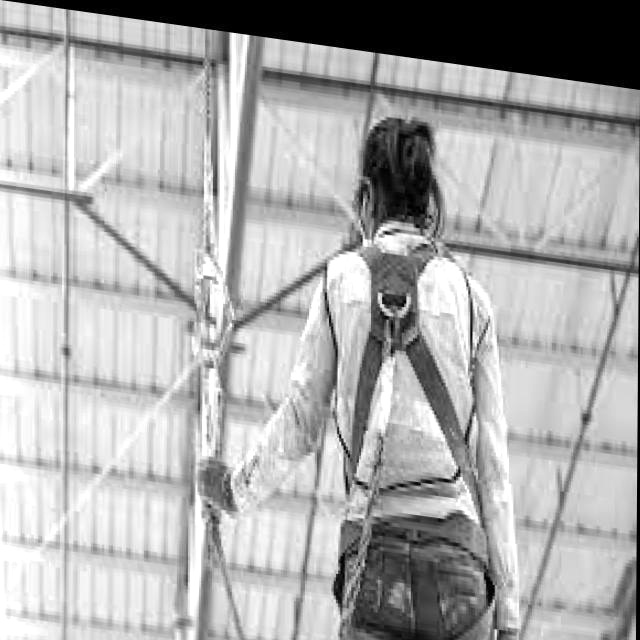safety belt: (312, 240, 543, 628)
